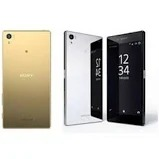sony: (1, 29, 51, 129), (63, 28, 104, 125), (107, 29, 148, 126)
